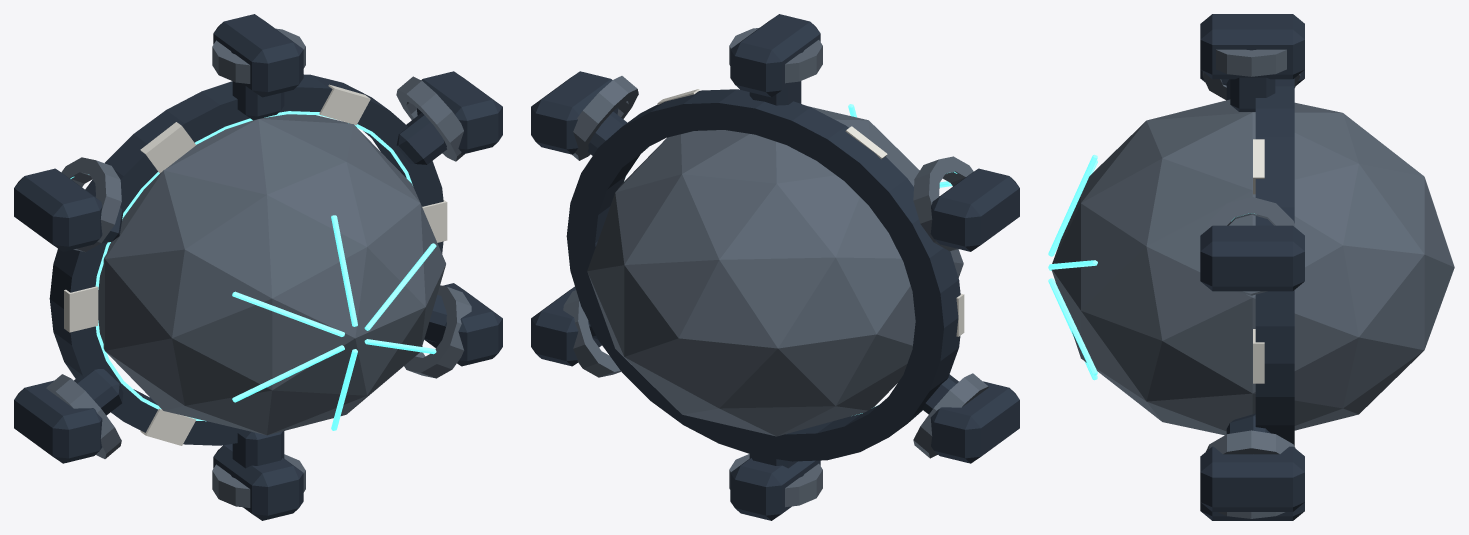
The model's file is ptc_core.glb.
3 views of the same model, side by side, from view 1: azimuth 30°, elevation 25°; view 2: azimuth 150°, elevation 25°; view 3: azimuth 270°, elevation 25° (orthographic). The views are drawn at different scales.
Visible parts, largest first — view 1: ptc_core__core, ptc_core__control_ring, ptc_core__radial_housing__02, ptc_core__radial_housing__03, ptc_core__radial_housing, ptc_core__radial_housing__04, ptc_core__radial_housing__06, ptc_core__radial_housing__05, ptc_core__DCI-M_05_frame, ptc_core__DCI-M_06_frame, ptc_core__DCI-M_02_frame, ptc_core__radial_arm__06 (+13 smaller); view 2: ptc_core__core, ptc_core__control_ring, ptc_core__radial_housing__02, ptc_core__radial_housing__03, ptc_core__radial_housing, ptc_core__radial_housing__06, ptc_core__radial_housing__04, ptc_core__radial_housing__05, ptc_core__DCI-M_06_frame, ptc_core__DCI-M_02_frame, ptc_core__DCI-M_05_frame, ptc_core__DCI-M_03_frame (+4 smaller); view 3: ptc_core__core, ptc_core__control_ring, ptc_core__radial_housing__06, ptc_core__radial_housing__05, ptc_core__radial_housing, ptc_core__DCI-M_01_frame, ptc_core__DCI-M_06_frame, ptc_core__DCI-M_05_frame, ptc_core__radial_arm, ptc_core__bus, ptc_core__bus__05, ptc_core__radial_housing__04 (+2 smaller).
Boxes of the visible parts, box(x1,y1,x2,y2) form: ptc_core__core: box(98, 114, 445, 435); ptc_core__control_ring: box(49, 74, 443, 445); ptc_core__radial_housing__02: box(14, 168, 102, 251); ptc_core__radial_housing__03: box(14, 380, 102, 463); ptc_core__radial_housing: box(213, 14, 303, 97); ptc_core__radial_housing__04: box(213, 444, 303, 520); ptc_core__radial_housing__06: box(417, 71, 502, 154); ptc_core__radial_housing__05: box(424, 283, 502, 366); ptc_core__DCI-M_05_frame: box(404, 285, 471, 378); ptc_core__DCI-M_06_frame: box(396, 76, 464, 161); ptc_core__DCI-M_02_frame: box(61, 157, 121, 251); ptc_core__radial_arm__06: box(396, 113, 446, 164); ptc_core__core: box(587, 106, 963, 436); ptc_core__control_ring: box(566, 89, 964, 461); ptc_core__radial_housing__02: box(930, 168, 1019, 251); ptc_core__radial_housing__03: box(930, 381, 1019, 463); ptc_core__radial_housing: box(730, 14, 820, 97); ptc_core__radial_housing__06: box(531, 71, 618, 154); ptc_core__radial_housing__04: box(730, 458, 820, 520); ptc_core__radial_housing__05: box(531, 286, 601, 366); ptc_core__DCI-M_06_frame: box(572, 76, 638, 160); ptc_core__DCI-M_02_frame: box(913, 156, 973, 251); ptc_core__DCI-M_05_frame: box(563, 290, 620, 377); ptc_core__DCI-M_03_frame: box(913, 373, 988, 458); ptc_core__core: box(1051, 99, 1454, 435); ptc_core__control_ring: box(1253, 78, 1294, 445); ptc_core__radial_housing__06: box(1200, 225, 1304, 291); ptc_core__radial_housing__05: box(1200, 446, 1304, 511); ptc_core__radial_housing: box(1200, 14, 1304, 79); ptc_core__DCI-M_01_frame: box(1216, 49, 1286, 76); ptc_core__DCI-M_06_frame: box(1207, 196, 1295, 295); ptc_core__DCI-M_05_frame: box(1206, 430, 1295, 454); ptc_core__radial_arm: box(1230, 77, 1275, 111); ptc_core__bus: box(1048, 154, 1097, 255); ptc_core__bus__05: box(1048, 278, 1097, 375); ptc_core__radial_housing__04: box(1200, 502, 1304, 520).
Bounding box in the file's own units: 4 × 4 × 3.
